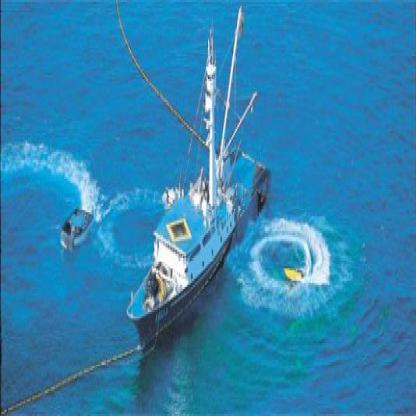fish-b: (122, 0, 275, 366)
